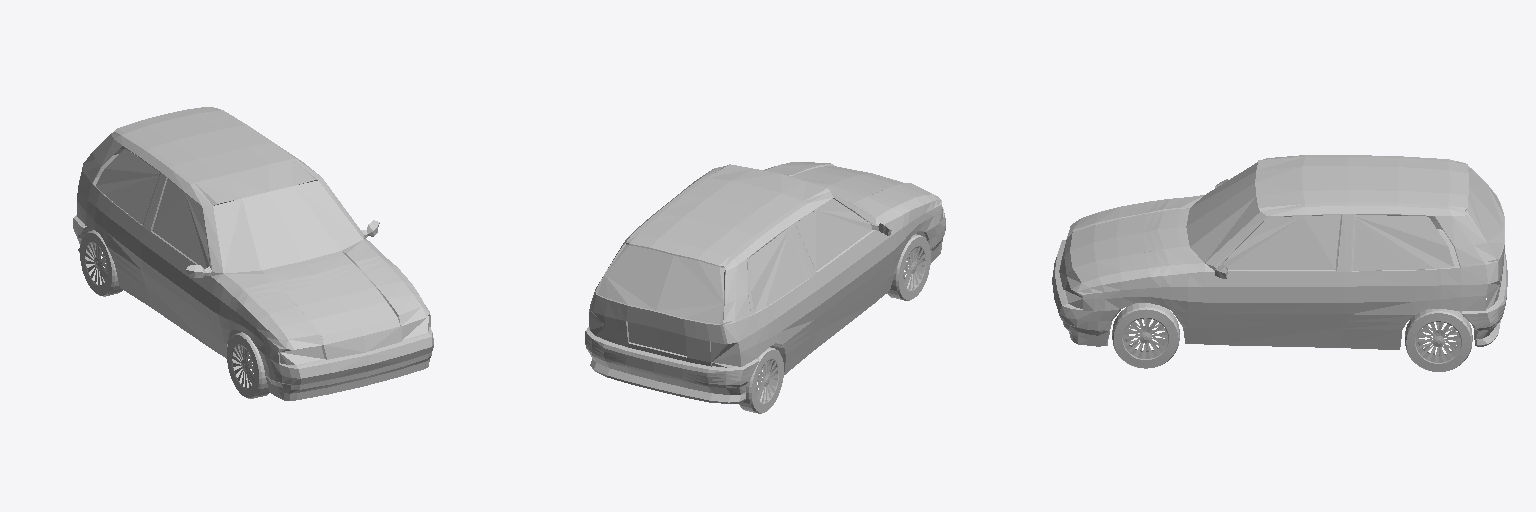
Rendered from car_geometry.obj.
3 renders of one model, left to right at view 1: azimuth 30°, elevation 25°; view 2: azimuth 150°, elevation 25°; view 3: azimuth 270°, elevation 25°, orthographic.
Parts seen in each view (by area): view 1: Body_Plane, Parabrezza_Plane.003, GrigliaAnt_Body_Plane.001, FinestriniAnt_Plane.004, FinestriniPost_Plane.005, Circle.002_Circle.001, Circle.003, Fari_Plane.002; view 2: Body_Plane, VetroPost_Plane.006, GrigliaPost_Body_Plane.002, FinestriniAnt_Plane.004, FinestriniPost_Plane.005, Circle.002_Circle.001, Circle.003, Targa_Body_Plane.003, StopDX_Body_Plane.005; view 3: Body_Plane, FinestriniAnt_Plane.004, FinestriniPost_Plane.005, Parabrezza_Plane.003, Circle_Circle.002, Circle.001_Circle.000, VetroPost_Plane.006, GrigliaAnt_Body_Plane.001, GrigliaPost_Body_Plane.002.
Boxes of the visible parts, <box> form: Body_Plane: <box>76,107,431,400</box>; Parabrezza_Plane.003: <box>213,180,362,273</box>; GrigliaAnt_Body_Plane.001: <box>265,326,433,384</box>; FinestriniAnt_Plane.004: <box>152,179,209,268</box>; FinestriniPost_Plane.005: <box>96,149,159,224</box>; Circle.002_Circle.001: <box>227,332,269,398</box>; Circle.003: <box>80,230,122,296</box>; Fari_Plane.002: <box>279,315,428,364</box>; Body_Plane: <box>588,162,942,403</box>; VetroPost_Plane.006: <box>596,245,724,323</box>; GrigliaPost_Body_Plane.002: <box>585,327,758,387</box>; FinestriniAnt_Plane.004: <box>795,199,871,270</box>; FinestriniPost_Plane.005: <box>750,229,807,312</box>; Circle.002_Circle.001: <box>887,234,930,300</box>; Circle.003: <box>739,347,783,413</box>; Targa_Body_Plane.003: <box>628,322,686,355</box>; StopDX_Body_Plane.005: <box>711,342,740,367</box>; Body_Plane: <box>1063,155,1504,349</box>; FinestriniAnt_Plane.004: <box>1223,215,1340,269</box>; FinestriniPost_Plane.005: <box>1353,215,1453,270</box>; Parabrezza_Plane.003: <box>1186,162,1259,262</box>; Circle_Circle.002: <box>1112,303,1179,368</box>; Circle.001_Circle.000: <box>1405,309,1472,371</box>; VetroPost_Plane.006: <box>1466,166,1503,258</box>; GrigliaAnt_Body_Plane.001: <box>1052,239,1104,331</box>; GrigliaPost_Body_Plane.002: <box>1462,253,1507,330</box>.
Bounding box in the file's own units: 2.43 × 1.87 × 4.95.